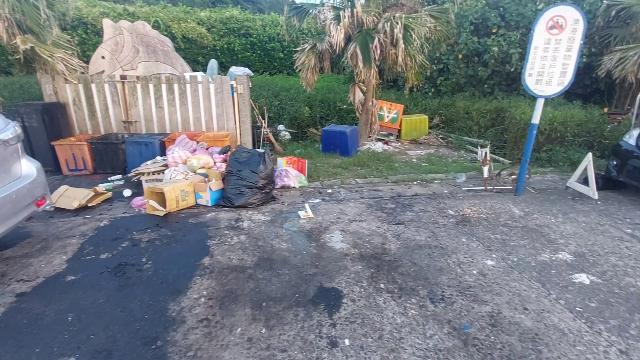pollute: (50, 129, 310, 219), (361, 99, 430, 152), (321, 122, 360, 161), (477, 144, 493, 180), (298, 202, 314, 219)
